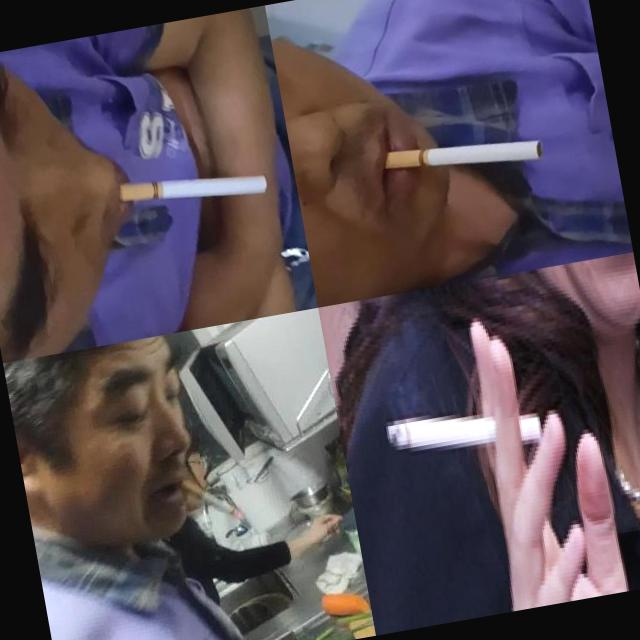cigarette: (381, 388, 542, 472), (384, 124, 546, 184), (115, 158, 270, 218), (177, 465, 244, 530)
